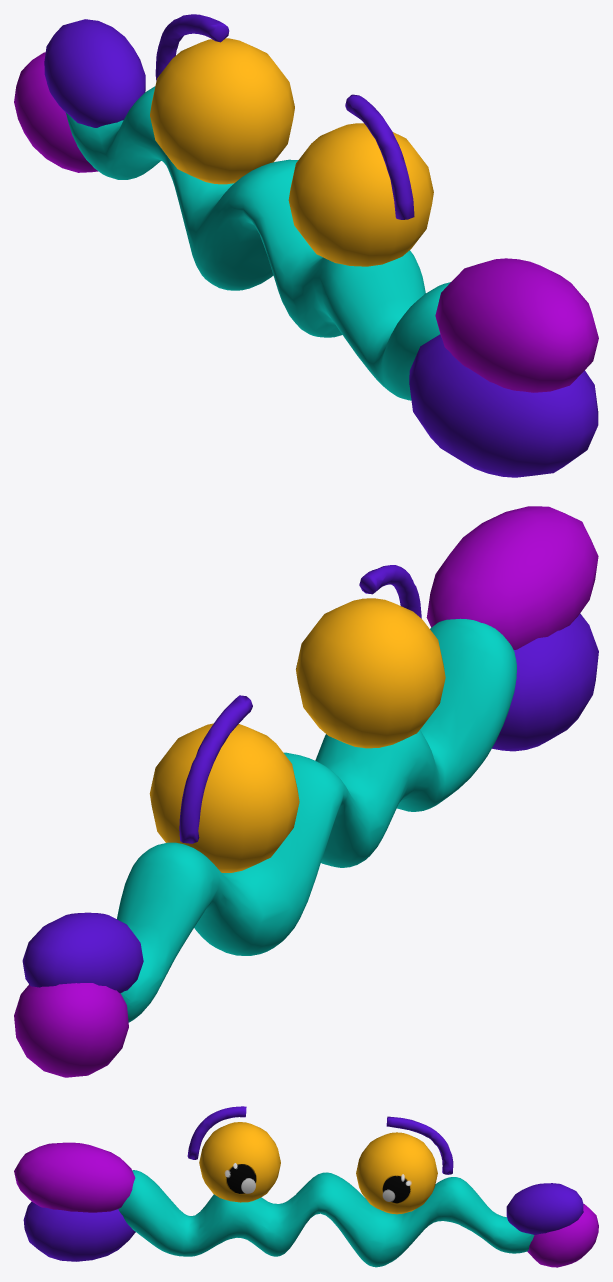
File: Fibrinogen.fbx
3 renders of one model, top to bottom at view 1: azimuth 30°, elevation 25°; view 2: azimuth 150°, elevation 25°; view 3: azimuth 270°, elevation 25°, orthographic. The views are drawn at different scales.
Parts seen in each view (by area): view 1: Fibrinogen; view 2: Fibrinogen; view 3: Fibrinogen.
Part boxes in pixels (x1,y1,x2,y2): Fibrinogen: (14, 14, 598, 477); Fibrinogen: (14, 506, 598, 1077); Fibrinogen: (14, 1106, 598, 1267).
Size of the model in its own units: 3.4 by 6.32 by 21.41.
Materials: 4 (1 with a texture image).
